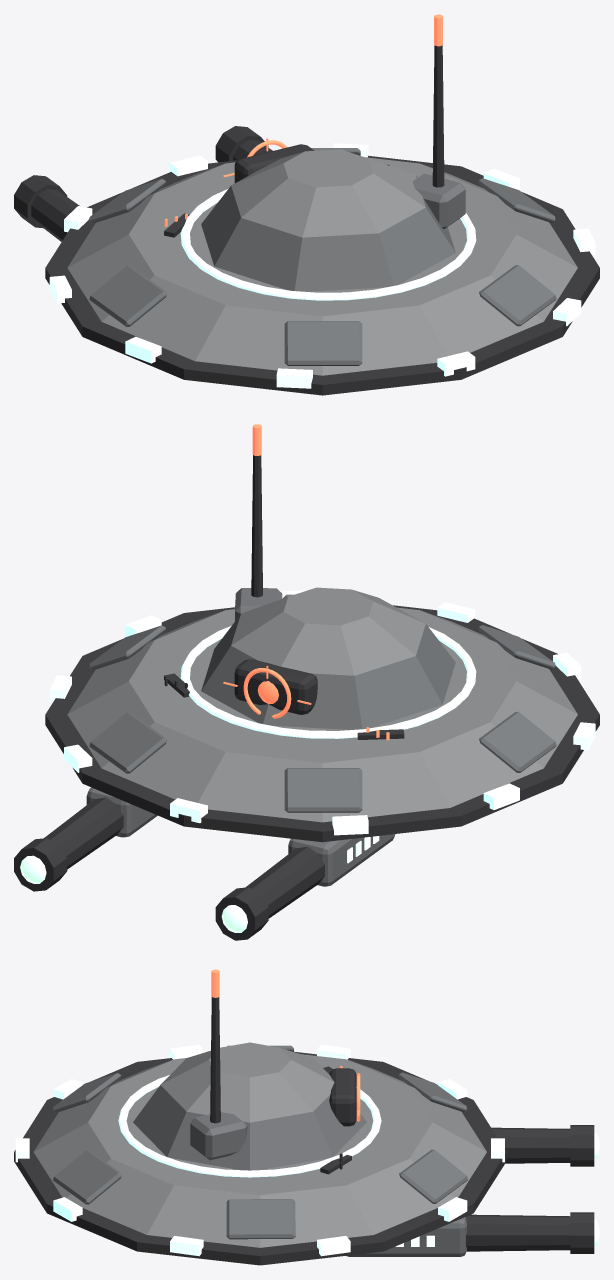
The model's file is diskoll.glb.
3 renders of one model, top to bottom at view 1: azimuth 30°, elevation 25°; view 2: azimuth 150°, elevation 25°; view 3: azimuth 270°, elevation 25°, orthographic. The views are drawn at different scales.
Parts seen in each view (by area): view 1: Hull, Ring, Guns; view 2: Hull, Guns, Ring; view 3: Hull, Guns, Ring.
Part boxes in pixels (left/top/right/bottom): Hull: left=45, top=14, right=599, bottom=395; Ring: left=49, top=143, right=595, bottom=388; Guns: left=14, top=126, right=272, bottom=241; Hull: left=45, top=424, right=599, bottom=842; Guns: left=14, top=787, right=395, bottom=940; Ring: left=49, top=590, right=595, bottom=835; Hull: left=14, top=969, right=506, bottom=1265; Guns: left=346, top=1125, right=599, bottom=1256; Ring: left=15, top=1044, right=504, bottom=1256.
Bounding box in the file's own units: 1.43 × 0.887 × 1.7.
